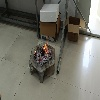fire: (42, 40, 49, 53), (34, 51, 36, 53)
